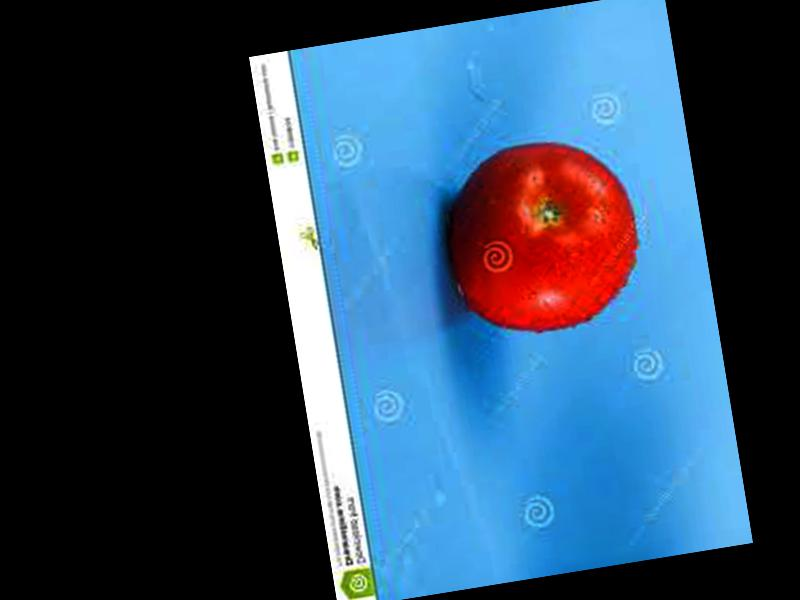Tomato: (436, 126, 649, 344)
